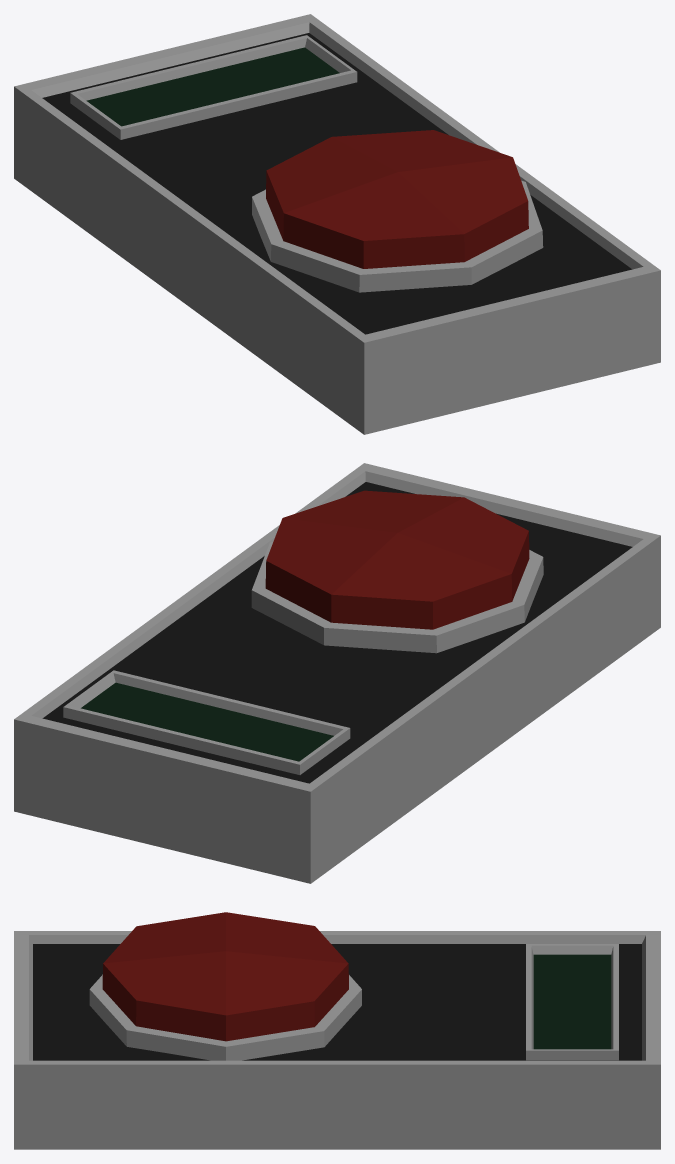
Rendered from PraedatumBasicButtonPreviouslyActivated.glb.
3 views of the same model, one above another, from view 1: azimuth 30°, elevation 25°; view 2: azimuth 150°, elevation 25°; view 3: azimuth 270°, elevation 25° (orthographic). The views are drawn at different scales.
Parts seen in each view (by area): view 1: MainPart, Button Circle, Indicator; view 2: MainPart, Button Circle, Indicator; view 3: MainPart, Button Circle, Indicator.
Boxes of the visible parts, x1=… form: MainPart: x1=14, y1=14, x2=660, y2=434; Button Circle: x1=252, y1=130, x2=543, y2=292; Indicator: x1=70, y1=35, x2=357, y2=139; MainPart: x1=14, y1=463, x2=660, y2=883; Button Circle: x1=251, y1=490, x2=543, y2=653; Indicator: x1=63, y1=670, x2=350, y2=774; MainPart: x1=14, y1=931, x2=660, y2=1149; Button Circle: x1=89, y1=912, x2=361, y2=1060; Indicator: x1=526, y1=944, x2=618, y2=1060.
Size of the model in its own units: 1.33 by 0.6102 by 2.72.
